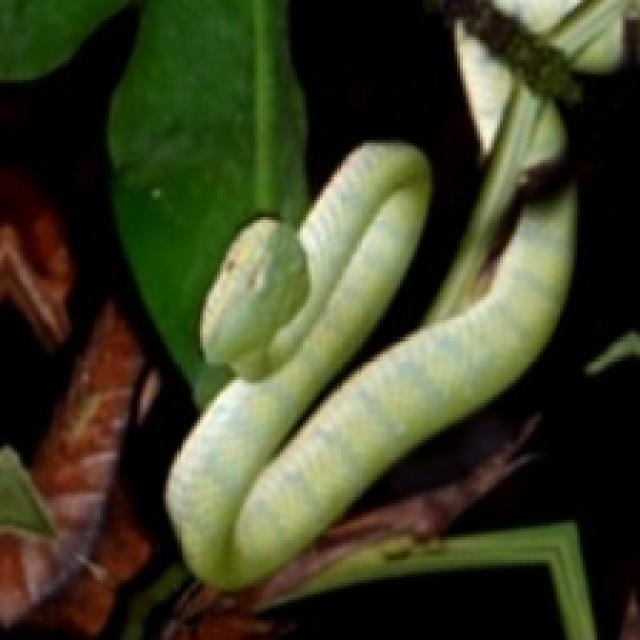north ph temple pitviper: (166, 0, 623, 586)
